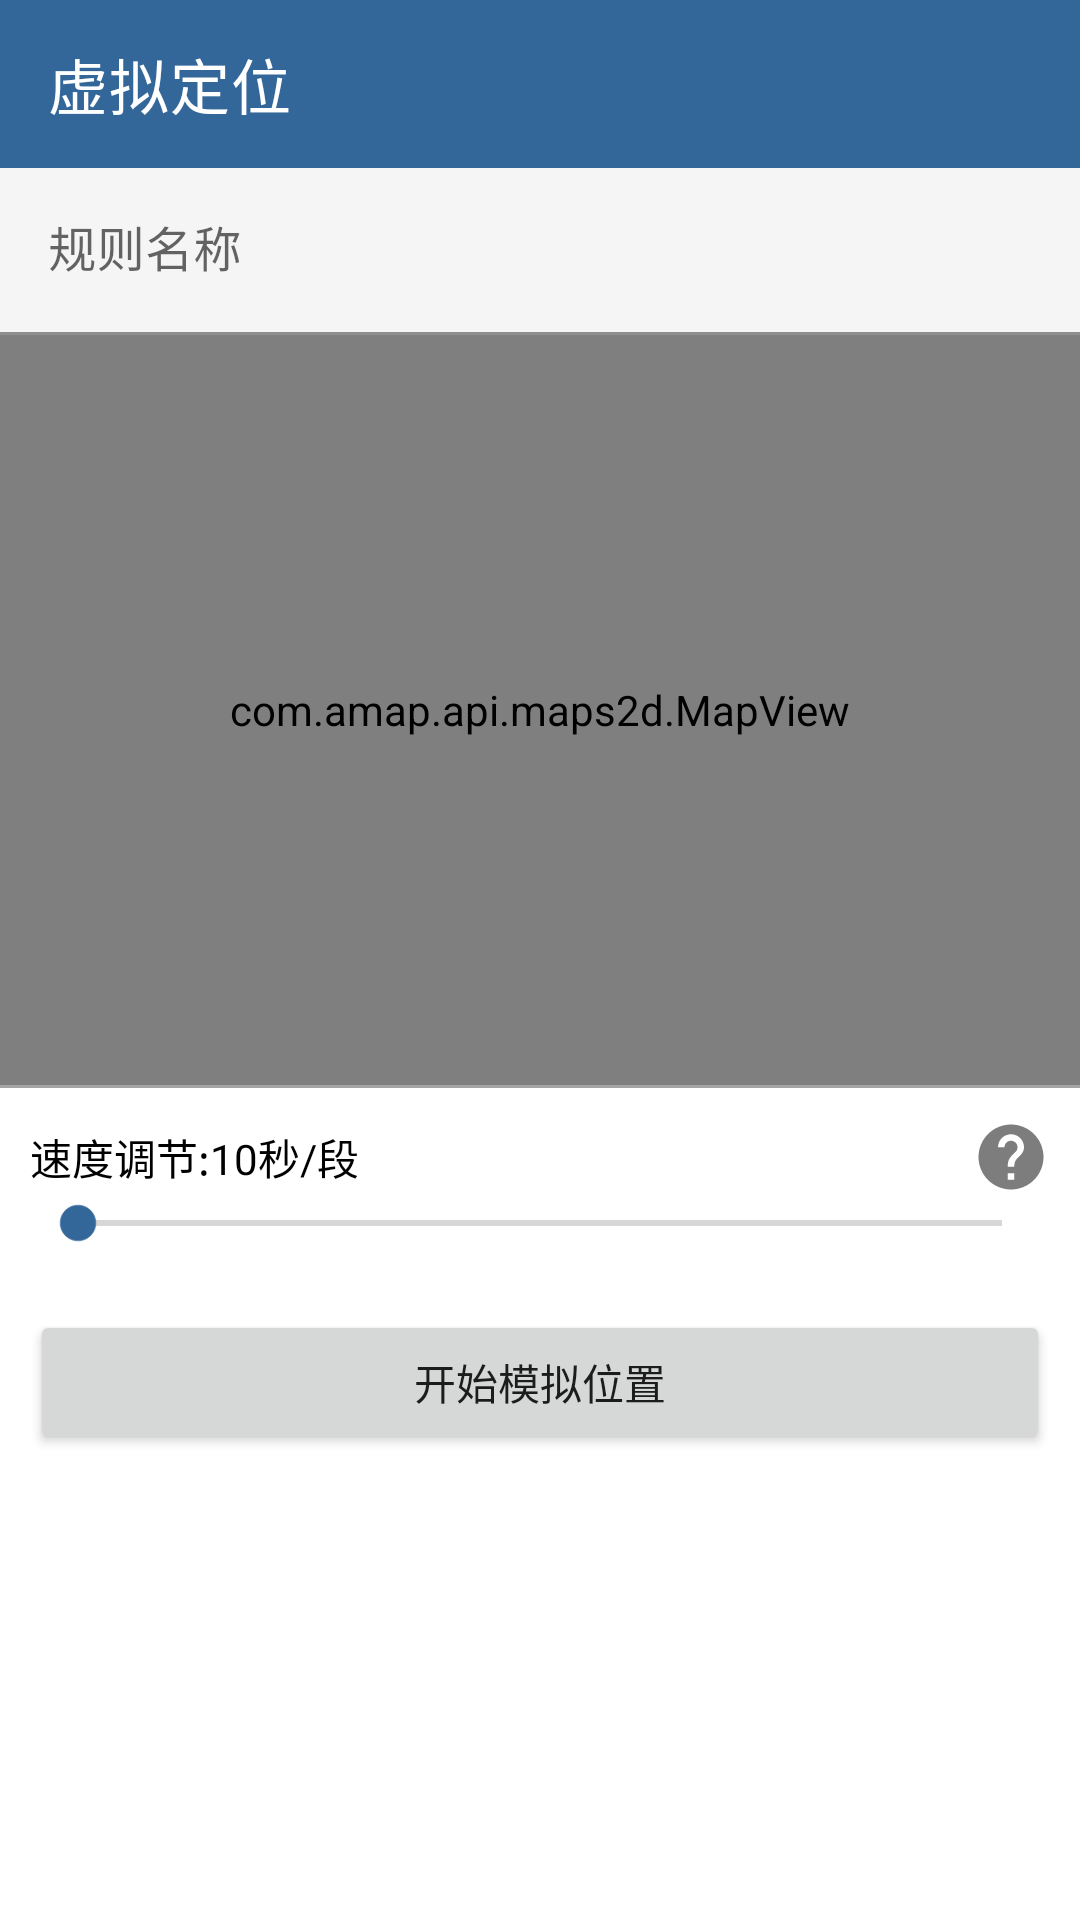

Screen size 1080×1920. Icon name, then its box in pixels as Rect(x1, y1, x2, y2):
help: Rect(978, 1124, 1044, 1190)
